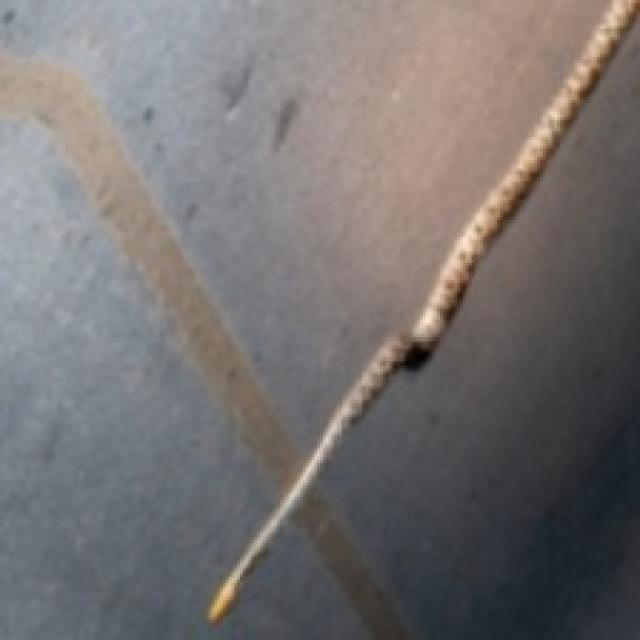reticulated python: (208, 0, 639, 622)
